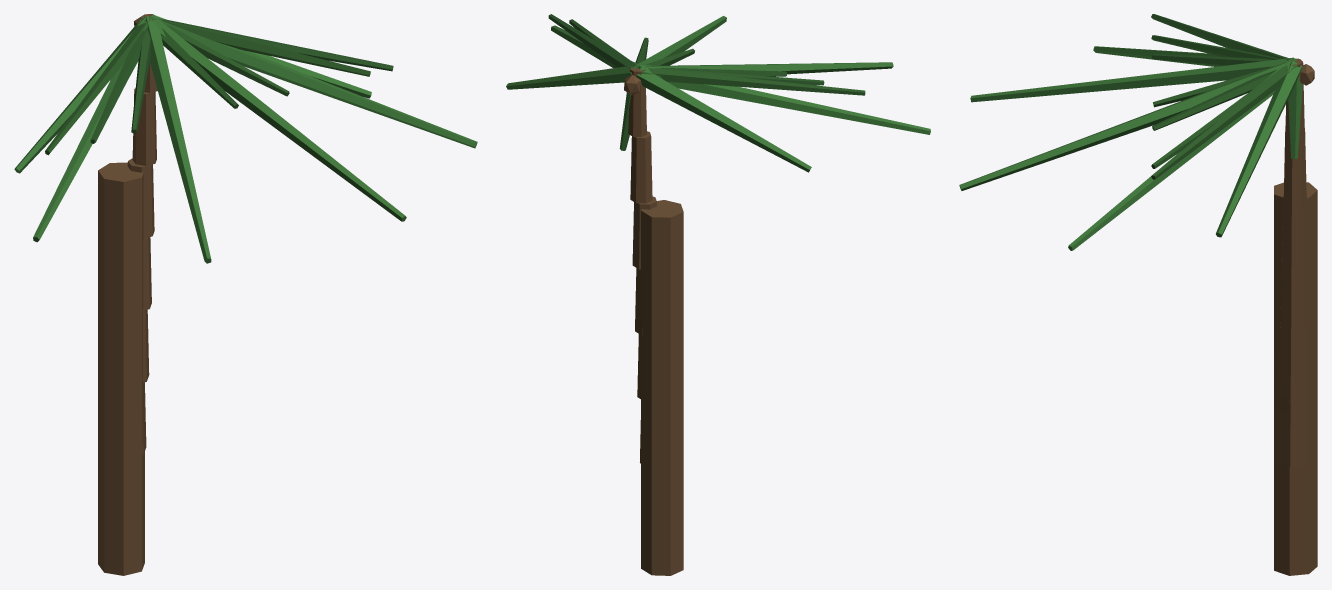
Rendered from NAT_Palm_A.fbx.
3 renders of one model, left to right at view 1: azimuth 30°, elevation 25°; view 2: azimuth 150°, elevation 25°; view 3: azimuth 270°, elevation 25°, orthographic. The views are drawn at different scales.
Parts seen in each view (by area): view 1: NAT_Palm_A__BODY, NAT_Palm_A__COL_Trunk; view 2: NAT_Palm_A__BODY, NAT_Palm_A__COL_Trunk; view 3: NAT_Palm_A__BODY, NAT_Palm_A__COL_Trunk.
Boxes of the visible parts, x1,y1,x2,y2 form: NAT_Palm_A__BODY: [14, 14, 477, 454]; NAT_Palm_A__COL_Trunk: [98, 162, 144, 575]; NAT_Palm_A__BODY: [506, 14, 930, 463]; NAT_Palm_A__COL_Trunk: [641, 200, 683, 575]; NAT_Palm_A__BODY: [959, 14, 1314, 466]; NAT_Palm_A__COL_Trunk: [1274, 182, 1317, 575].
Bounding box in the file's own units: 6.6 × 7.96 × 4.97.
